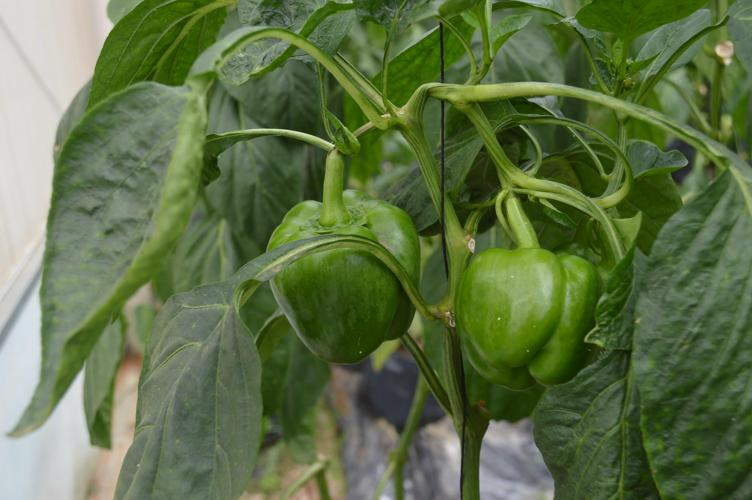BellPepper: (270, 193, 418, 358), (456, 244, 598, 388), (461, 364, 539, 425)
